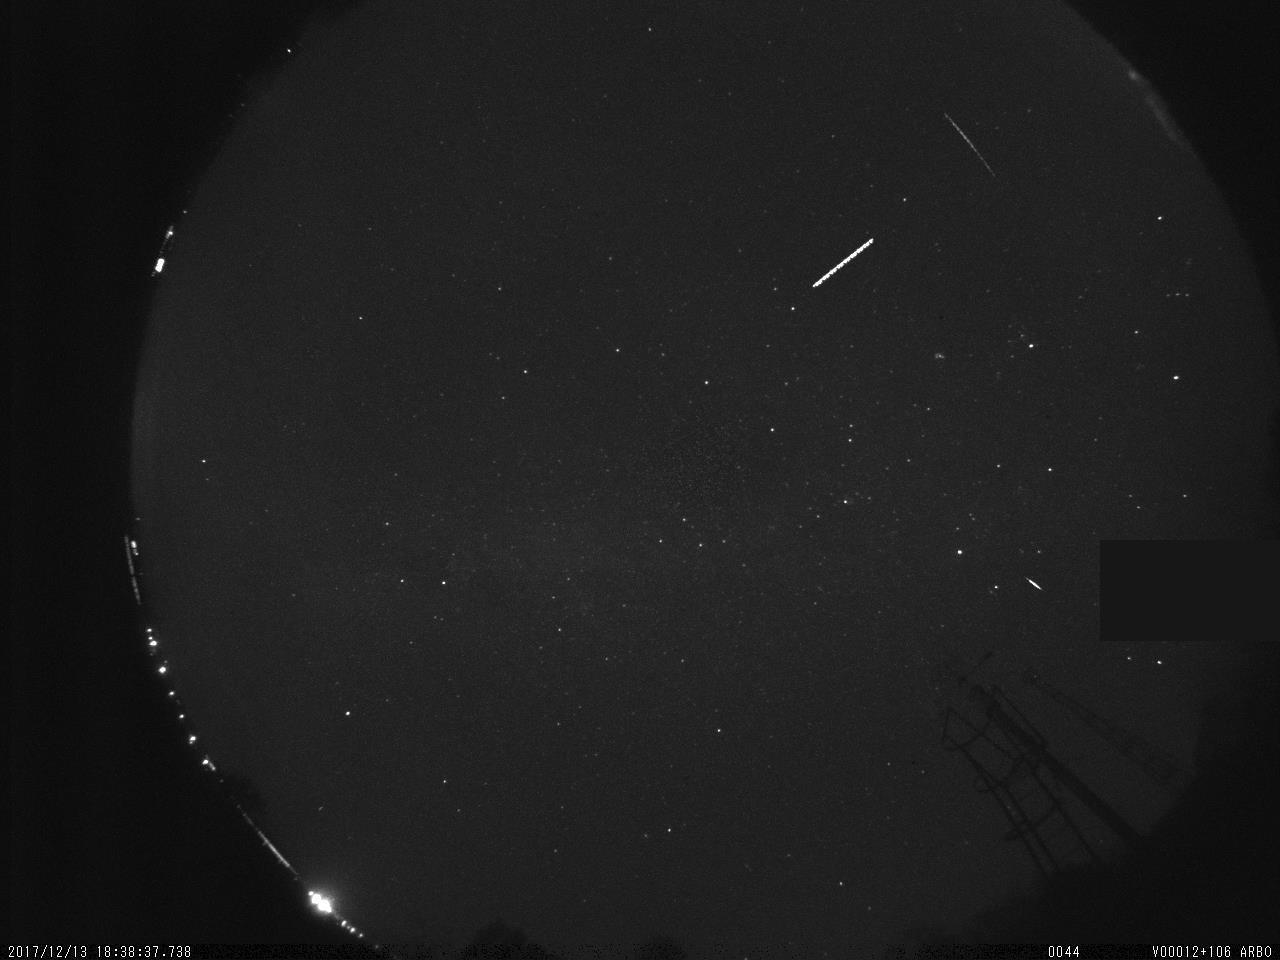meteor: (1023, 571, 1045, 597)
satelite: (937, 106, 1007, 184), (807, 232, 878, 298)
